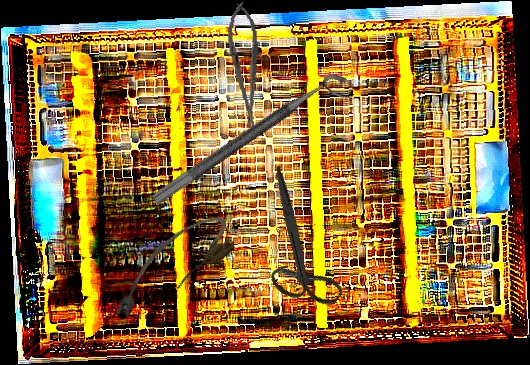Cannula: (97, 205, 243, 330)
Fixation Ring: (150, 67, 357, 221)
Iris Scissors: (216, 165, 379, 324)
Needle Holder: (224, 1, 266, 130)
